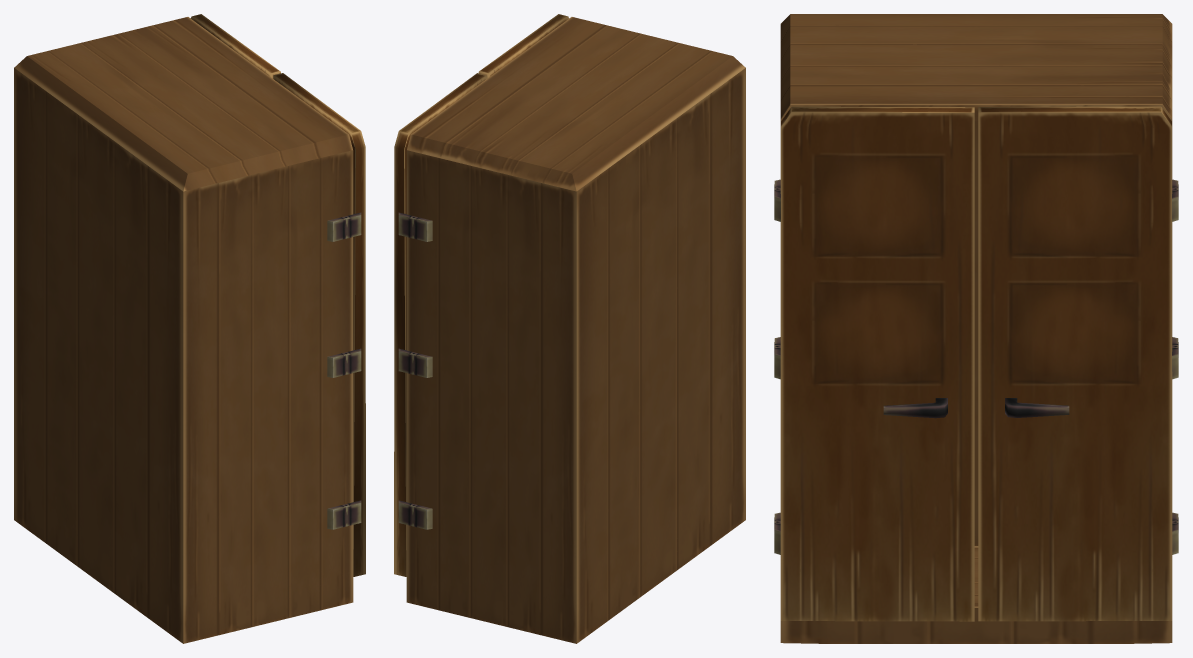
The model's file is assets_closet.fbx.
3 renders of one model, left to right at view 1: azimuth 30°, elevation 25°; view 2: azimuth 150°, elevation 25°; view 3: azimuth 270°, elevation 25°, orthographic. The views are drawn at different scales.
Visible parts, largest first — view 1: assets_closet; view 2: assets_closet; view 3: assets_closet.
Part boxes in pixels (x1=…): assets_closet: x1=14, y1=14, x2=365, y2=643; assets_closet: x1=394, y1=14, x2=745, y2=643; assets_closet: x1=774, y1=14, x2=1178, y2=643.
Bounding box in the file's own units: 11.07 × 24.67 × 16.8.
